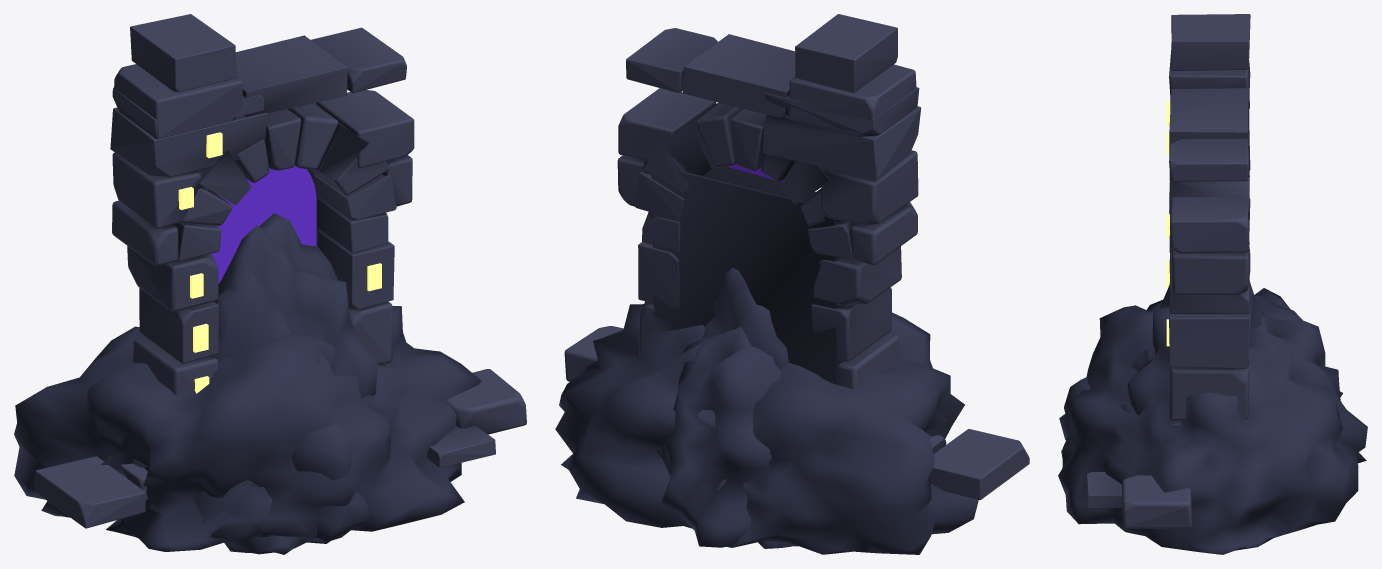
The model's file is kit.glb.
3 renders of one model, left to right at view 1: azimuth 30°, elevation 25°; view 2: azimuth 150°, elevation 25°; view 3: azimuth 270°, elevation 25°, orthographic. The views are drawn at different scales.
Visible parts, largest first — view 1: gate_arch, rock_d, rock_c, gate_membrane, rock_b, rock_a, gate_windows; view 2: gate_arch, rock_d, rock_b, rock_c; view 3: rock_d, gate_arch, rock_b, rock_c, gate_windows.
Boxes of the visible parts, <box> form: gate_arch: <box>34,14,526,528</box>; rock_d: <box>14,306,481,551</box>; rock_c: <box>209,213,377,554</box>; gate_membrane: <box>211,165,316,283</box>; rock_b: <box>252,423,373,542</box>; rock_a: <box>132,395,374,538</box>; gate_windows: <box>178,132,381,393</box>; gate_arch: <box>564,14,1029,499</box>; rock_d: <box>555,304,978,554</box>; rock_b: <box>656,327,781,547</box>; rock_c: <box>702,267,798,548</box>; rock_d: <box>1058,288,1358,554</box>; gate_arch: <box>1086,14,1250,528</box>; rock_b: <box>1061,315,1367,467</box>; rock_c: <box>1127,281,1264,414</box>; gate_windows: <box>1166,101,1170,346</box>.
Size of what is drawn, in the model's own units: 3.73 by 4.13 by 2.59.
